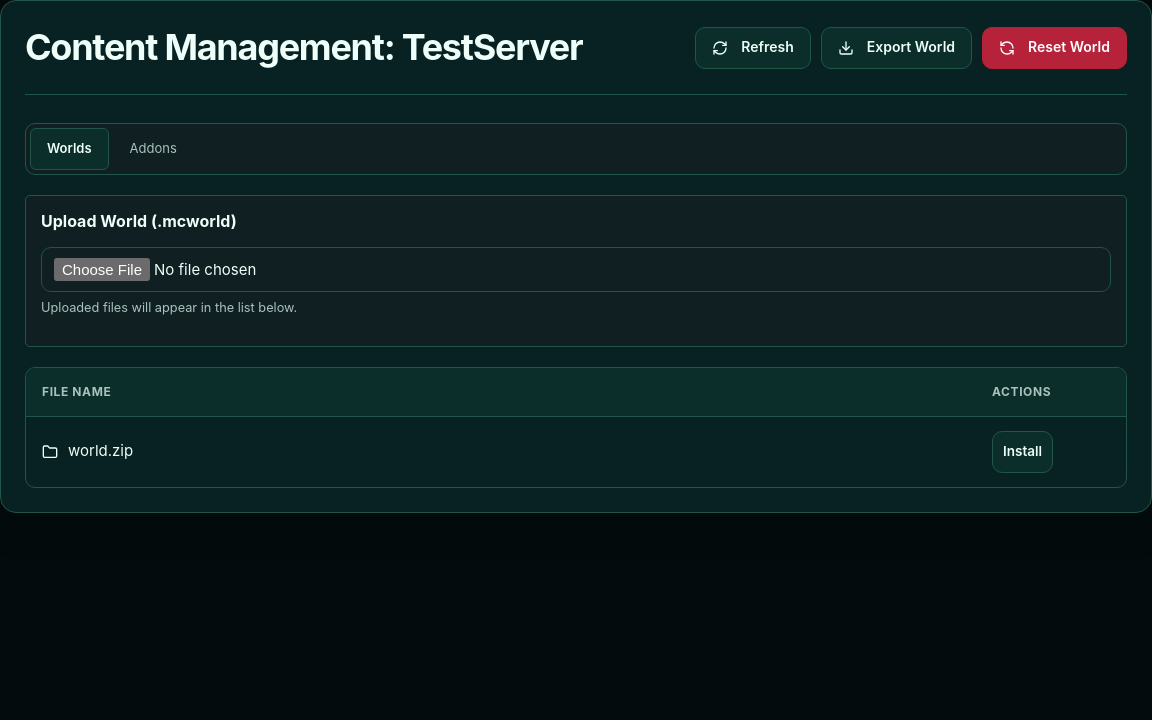
Test case: Content › refreshes the open installed modal after addon import events, including after a local subpack change
Expected: the text "world.zip" is shown, top-left (68, 439), bottom-right (133, 464)
Step 1. Click the button "Addons" → (153,149), box top-left (112, 128), bottom-right (194, 170)
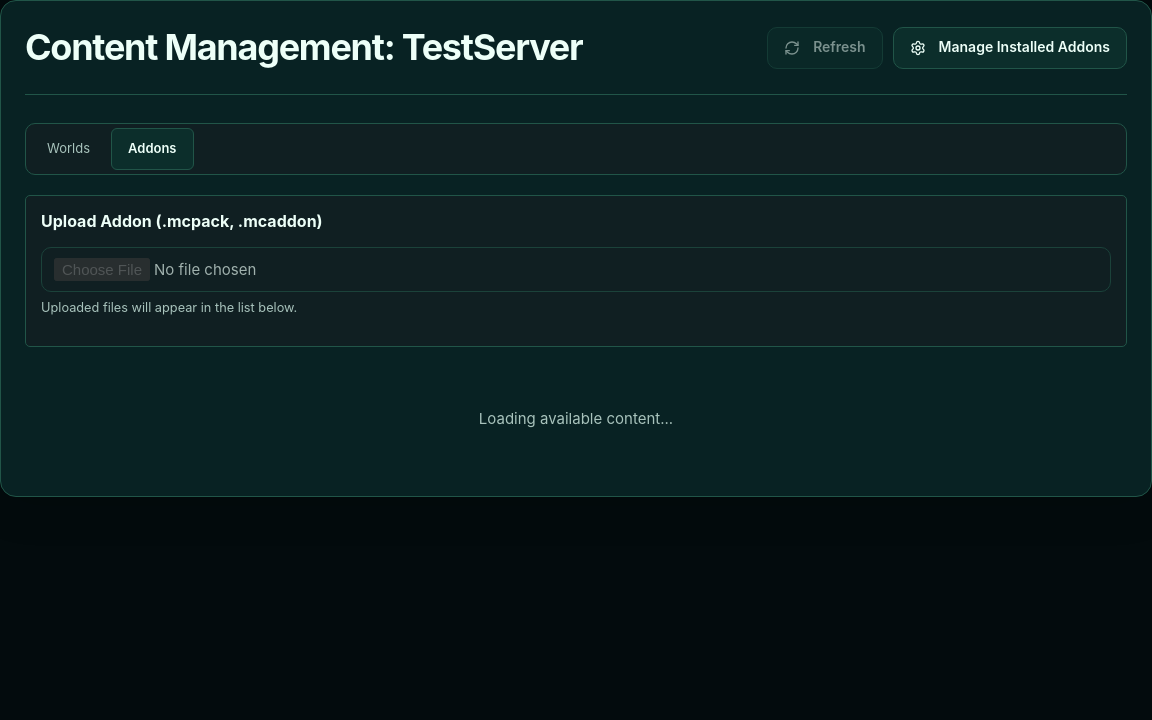
Step 2. Click the button "Manage Installed Addons" → (1010,48), box top-left (893, 26), bottom-right (1127, 68)
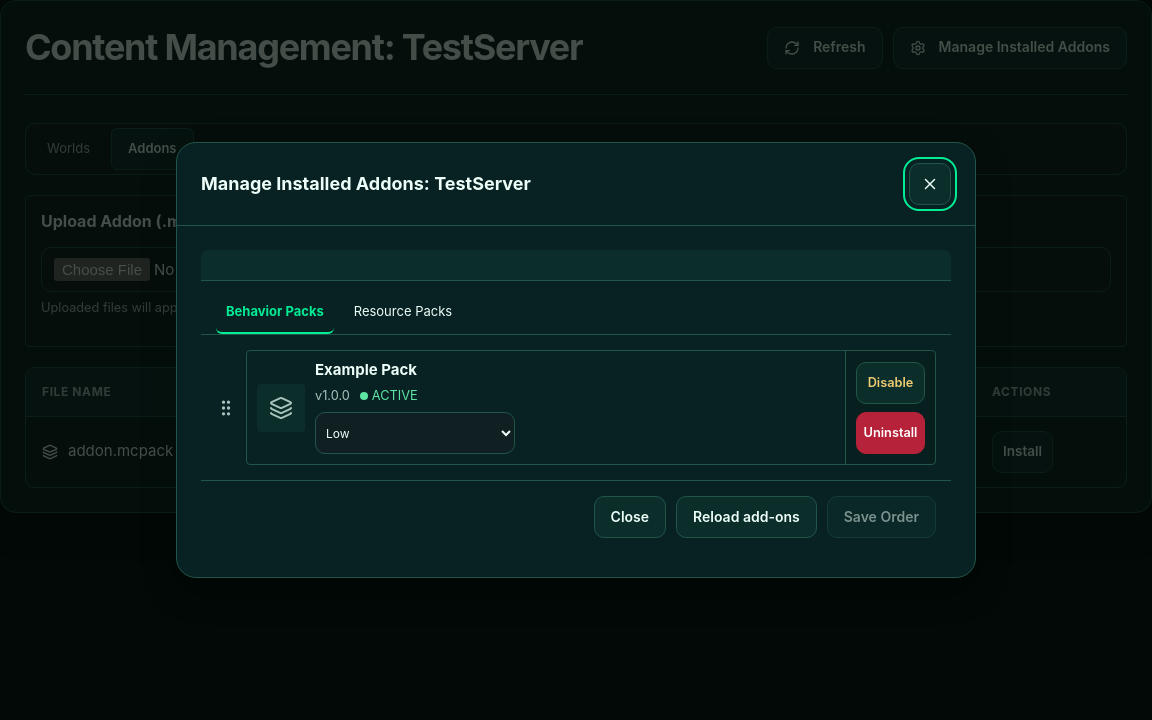
Step 3. Select "High" in the dropdown titled "Active Subpack" → (415,433), box top-left (315, 412), bottom-right (515, 454)
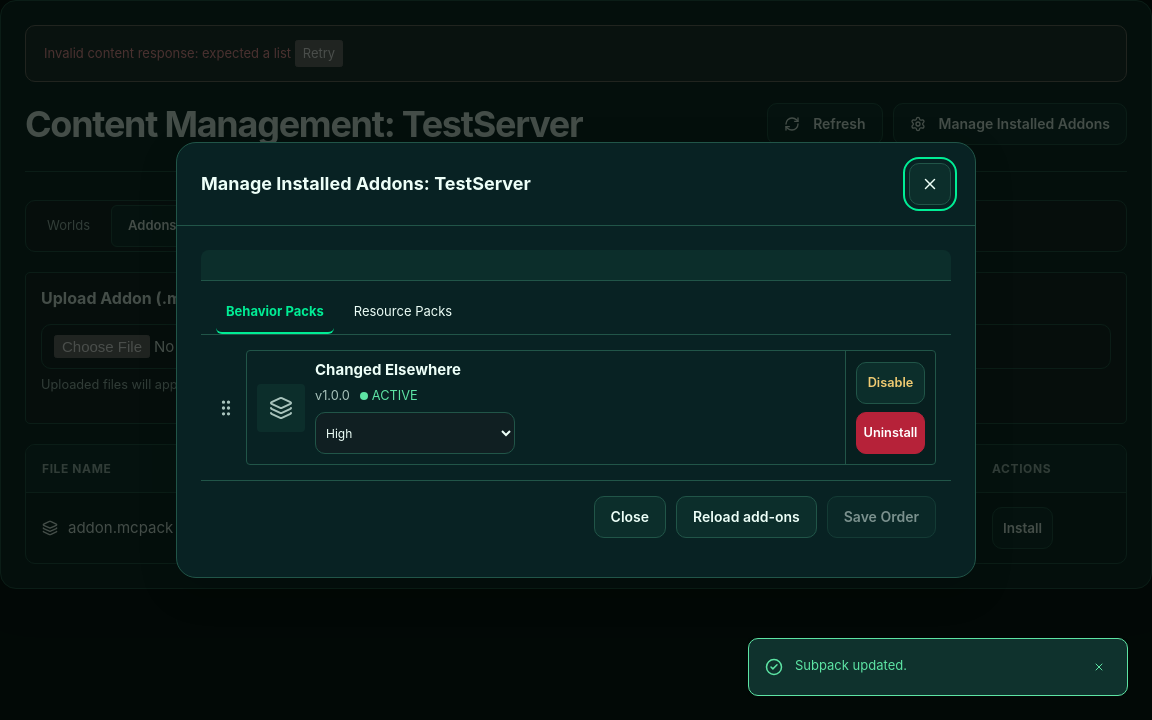
Expected: the button "Save Order" is disabled, top-left (827, 496), bottom-right (936, 538)
Expected: the heading "Changed Elsewhere" is shown, top-left (315, 361), bottom-right (461, 379)
